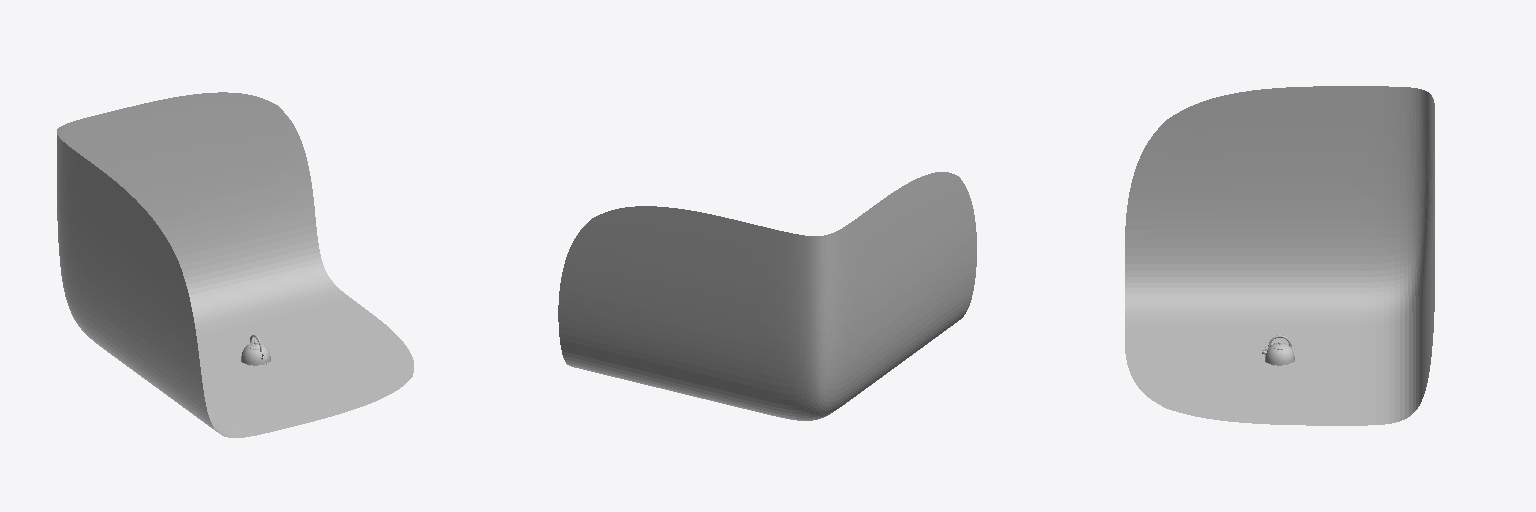
File: uploads_files_3168046_untitled.obj
3 renders of one model, left to right at view 1: azimuth 30°, elevation 25°; view 2: azimuth 150°, elevation 25°; view 3: azimuth 270°, elevation 25°, orthographic.
Visible parts, largest first — view 1: Plane, Sphere; view 2: Plane; view 3: Plane, Sphere.
Boxes of the visible parts, x1=… form: Plane: x1=57, y1=92, x2=413, y2=437; Sphere: x1=241, y1=335, x2=270, y2=365; Plane: x1=558, y1=172, x2=976, y2=420; Plane: x1=1125, y1=86, x2=1434, y2=425; Sphere: x1=1265, y1=335, x2=1294, y2=365.
Bounding box in the file's own units: 19.17 × 14.15 × 19.17.